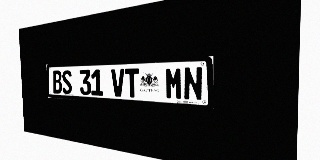1: (91, 69, 103, 96)
3: (79, 70, 91, 95)
B: (52, 70, 62, 94)
M: (165, 67, 183, 100)
N: (183, 66, 203, 101)
S: (62, 70, 72, 94)
T: (125, 68, 139, 98)
V: (111, 69, 125, 97)
